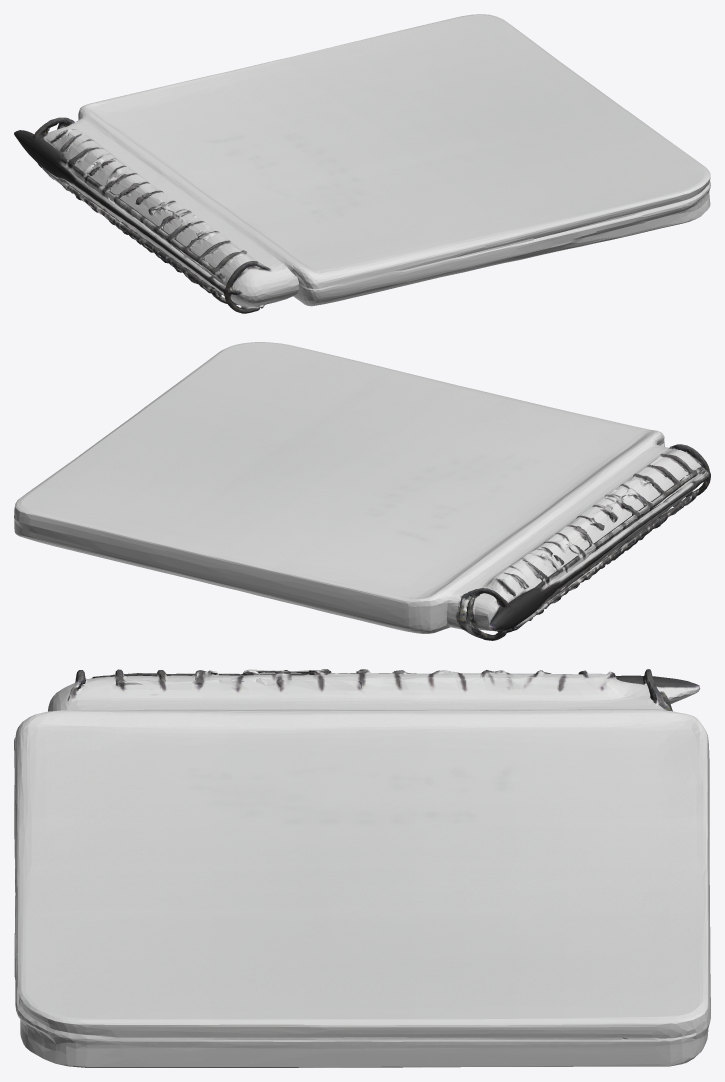
3 renders of one model, top to bottom at view 1: azimuth 30°, elevation 25°; view 2: azimuth 150°, elevation 25°; view 3: azimuth 270°, elevation 25°, orthographic. The views are drawn at different scales.
Visible parts, largest first — view 1: world; view 2: world; view 3: world.
Part boxes in pixels (box(x1,y1,x2,y2)): world: box(14, 14, 710, 313); world: box(14, 342, 710, 640); world: box(14, 669, 710, 1067).
Size of the model in its own units: 1 by 0.1051 by 0.8558.
Materials: 1 (1 with a texture image).
